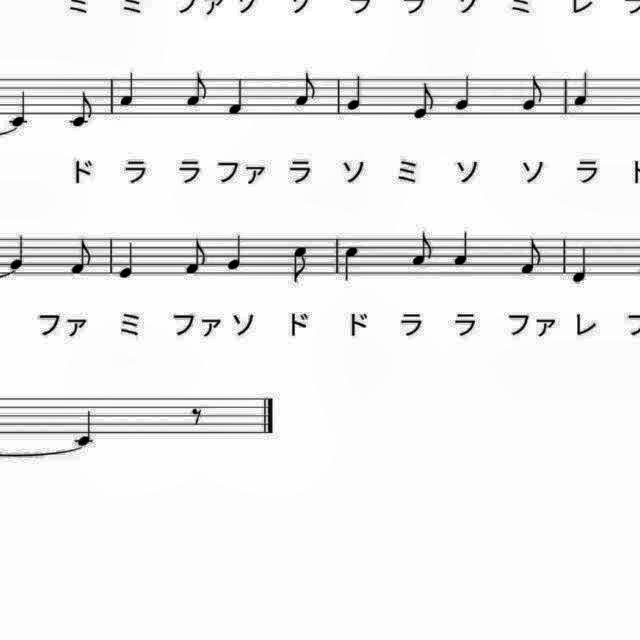Eighth-note: (64, 86, 98, 130), (516, 235, 548, 281), (290, 68, 322, 112), (409, 78, 439, 124), (406, 228, 438, 270), (286, 242, 314, 290), (181, 68, 211, 112), (66, 236, 96, 280), (518, 72, 548, 116), (180, 236, 210, 280)
Eighth-rest: (188, 404, 208, 432)
Quarter-note: (450, 71, 478, 117), (225, 73, 253, 119), (568, 243, 596, 289), (70, 405, 100, 447), (115, 236, 142, 282), (448, 226, 476, 270), (338, 242, 366, 286), (6, 87, 34, 129), (343, 72, 369, 116), (569, 68, 595, 112), (222, 230, 248, 274), (6, 228, 30, 272), (116, 68, 140, 112)
